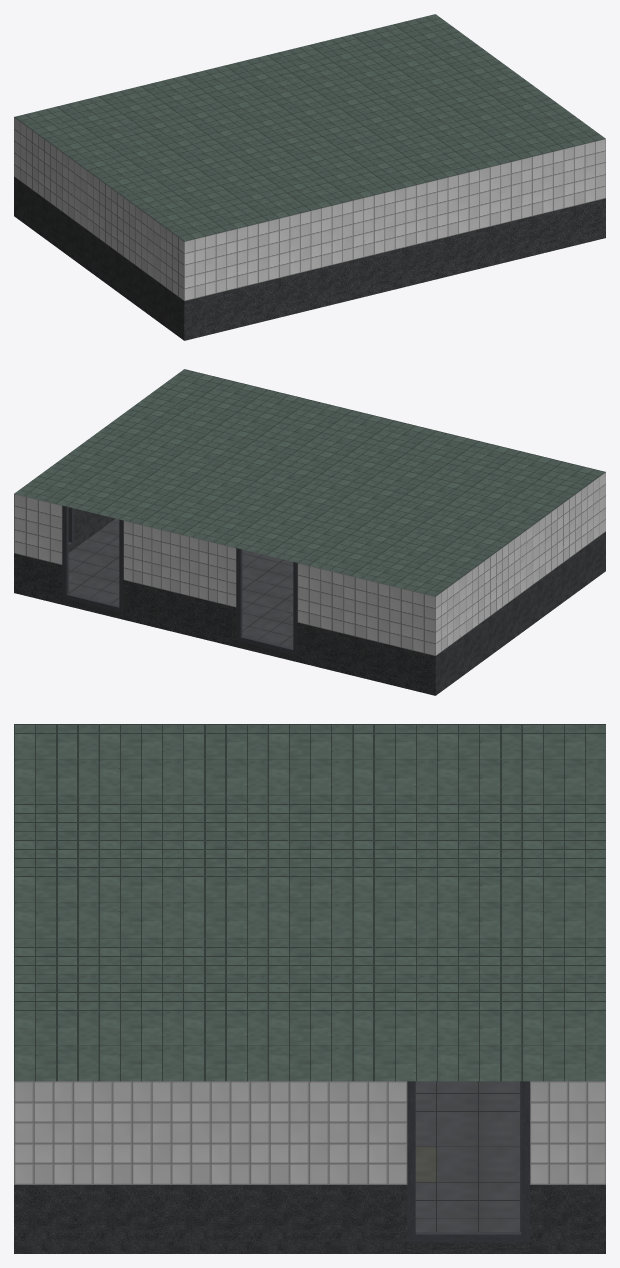
File: lab.obj
3 views of the same model, one above another, from view 1: azimuth 30°, elevation 25°; view 2: azimuth 150°, elevation 25°; view 3: azimuth 270°, elevation 25° (orthographic). The views are drawn at different scales.
Bounding box in the file's own units: 800 × 180 × 560.
